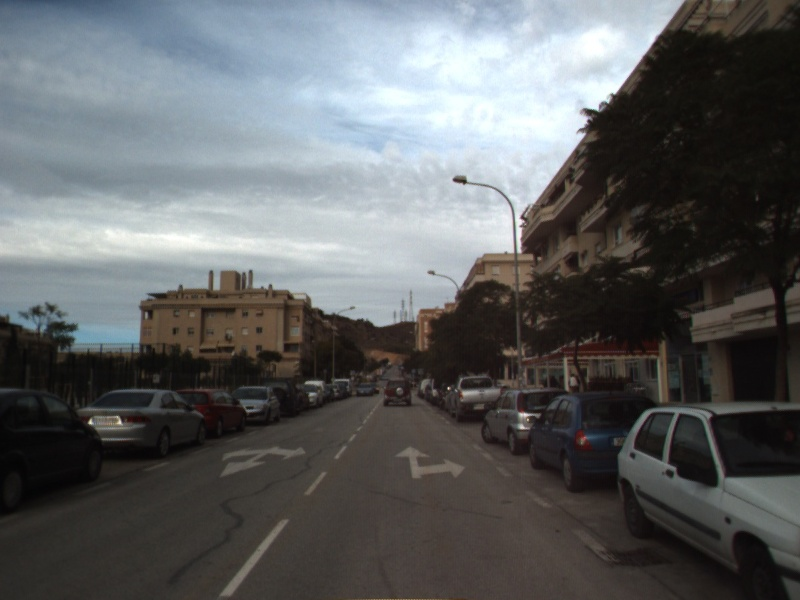STRAIGHT_RIGHT: (393, 444, 468, 480)
